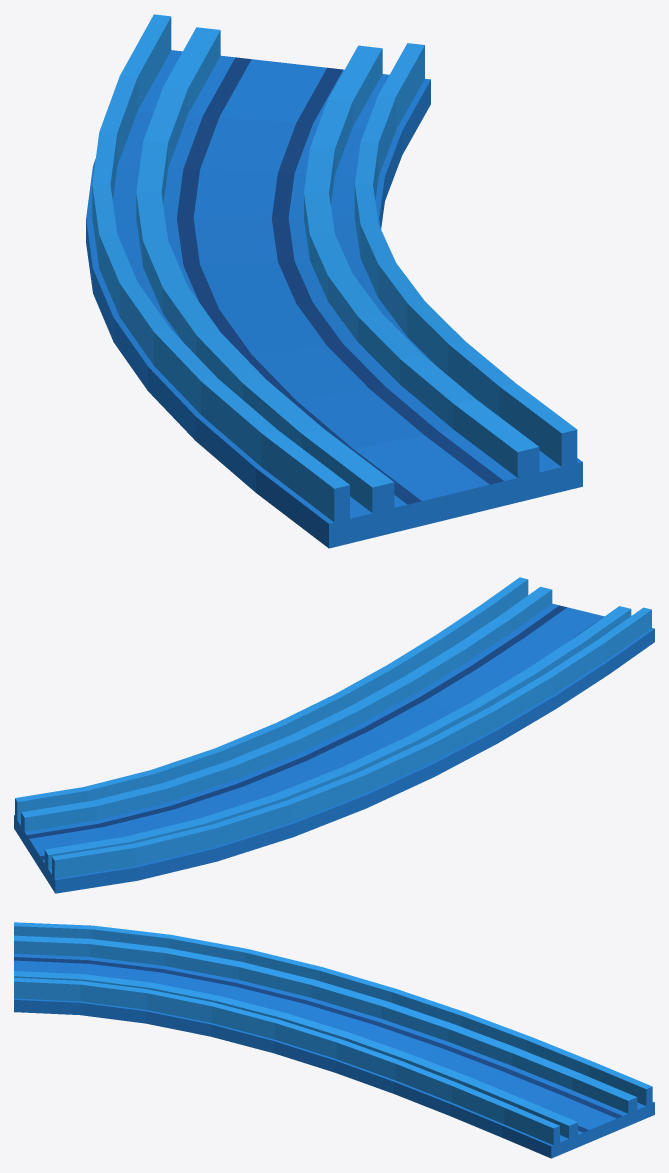
The model's file is Track_Slope_Curve_Right_Down.fbx.
3 renders of one model, top to bottom at view 1: azimuth 30°, elevation 25°; view 2: azimuth 150°, elevation 25°; view 3: azimuth 270°, elevation 25°, orthographic. The views are drawn at different scales.
Visible parts, largest first — view 1: Molded blue rail; view 2: Molded blue rail; view 3: Molded blue rail.
Boxes of the visible parts, x1=… form: Molded blue rail: x1=86, y1=14, x2=582, y2=548; Molded blue rail: x1=14, y1=577, x2=654, y2=893; Molded blue rail: x1=14, y1=922, x2=654, y2=1158.
Bounding box in the file's own units: 266 × 64.88 × 462.
